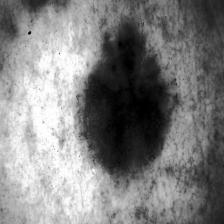Benign Marking or Mole: (78, 26, 176, 174)
